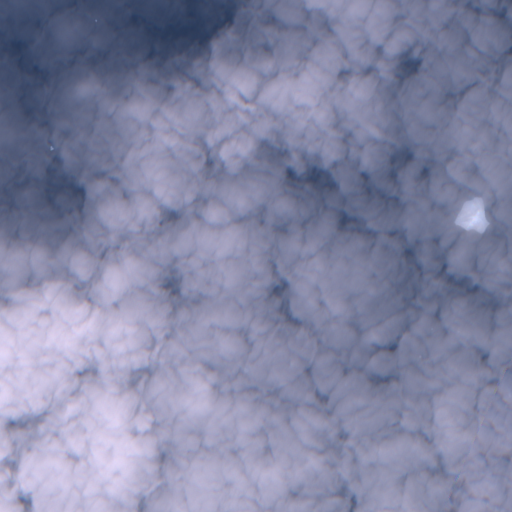Iceberg: (454, 198, 489, 233), (50, 146, 53, 150), (95, 20, 96, 21)
